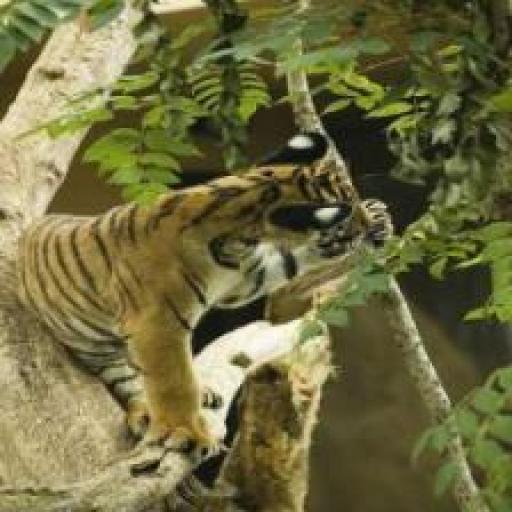Tiger: (9, 121, 402, 469)
